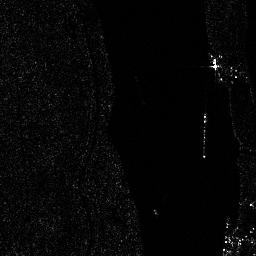ship: (202, 110, 208, 160)
